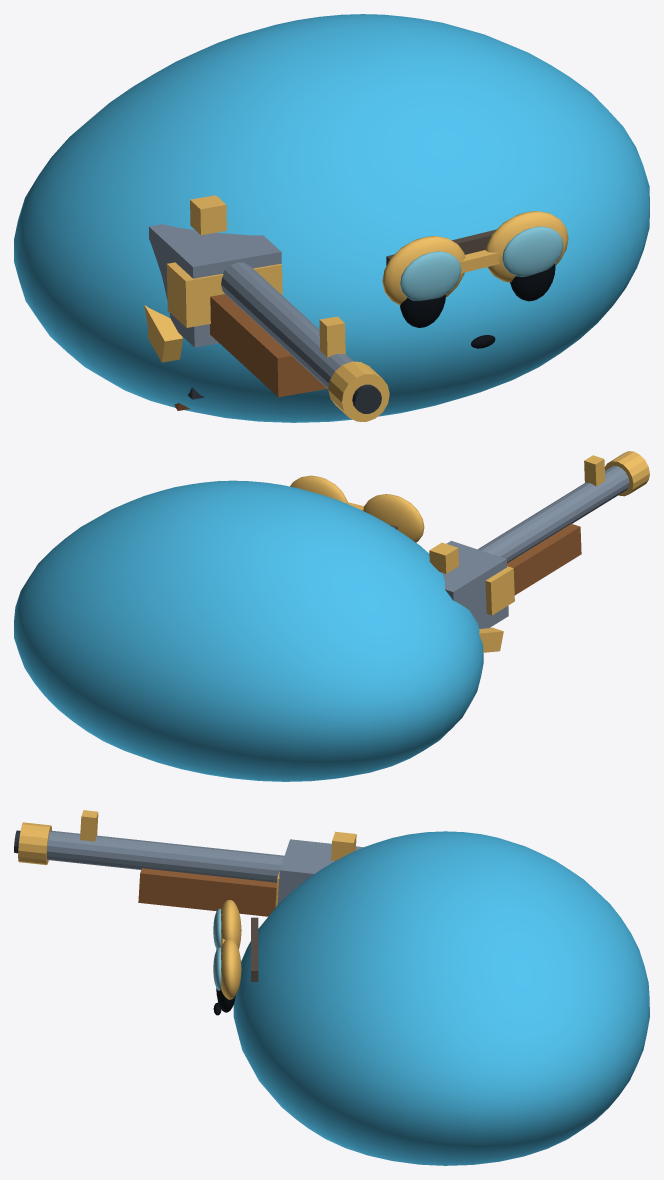
File: gunner-slime.glb
3 renders of one model, top to bottom at view 1: azimuth 30°, elevation 25°; view 2: azimuth 150°, elevation 25°; view 3: azimuth 270°, elevation 25°, orthographic. The views are drawn at different scales.
Visible parts, largest first — view 1: Body, Gunner_Receiver, Gunner_Barrel, Gunner_Forestock, Gunner_ReceiverPlate, Gunner_GoggleLens_R, Gunner_GoggleLens_L, Gunner_MuzzleRing, Gunner_GoggleFrame_L, Gunner_GoggleFrame_R, Gunner_CyclingLever, Gunner_RearSight (+6 smaller); view 2: Body, Gunner_Barrel, Gunner_Receiver, Gunner_Forestock, Gunner_GoggleFrame_L, Gunner_ReceiverPlate, Gunner_MuzzleRing, Gunner_GoggleFrame_R, Gunner_RearSight, Gunner_FrontSight, Gunner_CyclingLever; view 3: Body, Gunner_Barrel, Gunner_Forestock, Gunner_Receiver, Gunner_MuzzleRing, Gunner_GoggleFrame_R, Gunner_GoggleFrame_L, Gunner_RearSight, Gunner_FrontSight, Gunner_GoggleStrap.
Part boxes in pixels (left/top/right/bottom): Body: left=14, top=14, right=649, bottom=422; Gunner_Receiver: left=149, top=224, right=281, bottom=347; Gunner_Barrel: left=221, top=262, right=353, bottom=388; Gunner_Forestock: left=210, top=294, right=327, bottom=397; Gunner_ReceiverPlate: left=166, top=262, right=282, bottom=327; Gunner_GoggleLens_R: left=502, top=226, right=563, bottom=276; Gunner_GoggleLens_L: left=400, top=251, right=461, bottom=300; Gunner_MuzzleRing: left=328, top=361, right=389, bottom=421; Gunner_GoggleFrame_L: left=382, top=236, right=465, bottom=305; Gunner_GoggleFrame_R: left=485, top=211, right=568, bottom=282; Gunner_CyclingLever: left=144, top=305, right=182, bottom=362; Gunner_RearSight: left=190, top=195, right=226, bottom=235; Body: left=14, top=480, right=483, bottom=781; Gunner_Barrel: left=478, top=466, right=629, bottom=562; Gunner_Receiver: left=442, top=540, right=508, bottom=628; Gunner_Forestock: left=507, top=523, right=581, bottom=595; Gunner_GoggleFrame_L: left=363, top=494, right=424, bottom=542; Gunner_ReceiverPlate: left=485, top=566, right=514, bottom=615; Gunner_MuzzleRing: left=604, top=451, right=649, bottom=496; Gunner_GoggleFrame_R: left=290, top=475, right=347, bottom=503; Gunner_RearSight: left=429, top=542, right=458, bottom=573; Gunner_FrontSight: left=584, top=455, right=605, bottom=486; Gunner_CyclingLever: left=479, top=627, right=503, bottom=652; Body: left=233, top=831, right=649, bottom=1165; Gunner_Barrel: left=47, top=830, right=284, bottom=882; Gunner_Forestock: left=138, top=868, right=276, bottom=916; Gunner_Receiver: left=277, top=839, right=363, bottom=904; Gunner_MuzzleRing: left=18, top=822, right=51, bottom=864; Gunner_GoggleFrame_R: left=221, top=938, right=241, bottom=999; Gunner_GoggleFrame_L: left=221, top=900, right=241, bottom=949; Gunner_RearSight: left=331, top=831, right=356, bottom=860; Gunner_FrontSight: left=80, top=810, right=98, bottom=841; Gunner_GoggleStrap: left=251, top=917, right=258, bottom=981.
Bounding box in the file's own units: 2.36 × 1.18 × 2.92.
